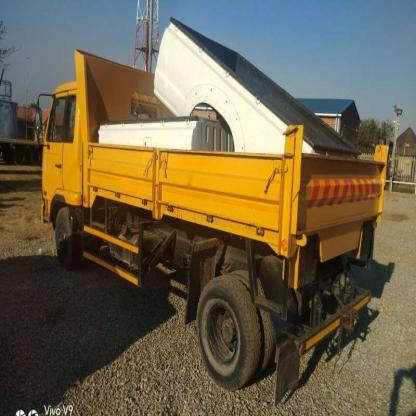dump_truck: (28, 26, 387, 390)
